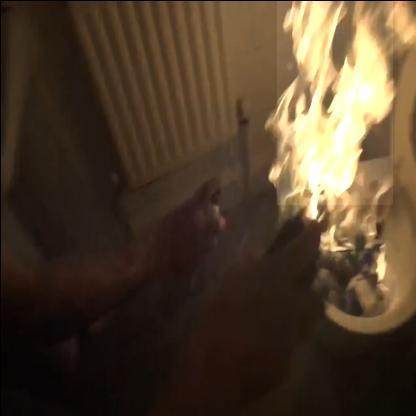Fire: (264, 0, 416, 286)
